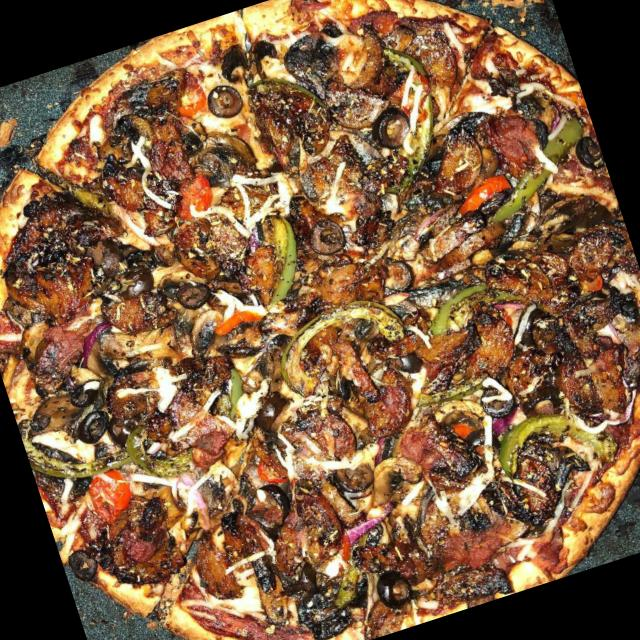black_olives: (210, 31, 275, 82), (326, 450, 389, 502), (371, 560, 429, 616), (302, 208, 355, 266), (365, 99, 417, 153), (70, 402, 122, 452), (472, 376, 517, 426), (204, 78, 251, 125), (249, 474, 295, 518), (574, 130, 607, 174), (376, 254, 410, 294), (171, 273, 208, 308), (68, 544, 99, 581), (64, 378, 94, 412)
mushrooms: (166, 90, 268, 196), (221, 511, 293, 624), (94, 308, 193, 388), (476, 236, 568, 318), (337, 366, 417, 444), (426, 126, 488, 194), (106, 103, 166, 173)
peppers: (268, 288, 409, 388), (372, 42, 458, 187), (479, 117, 592, 218), (495, 394, 611, 485), (23, 413, 128, 502), (244, 202, 308, 296), (215, 364, 255, 422)
pizza: (0, 0, 640, 640)
